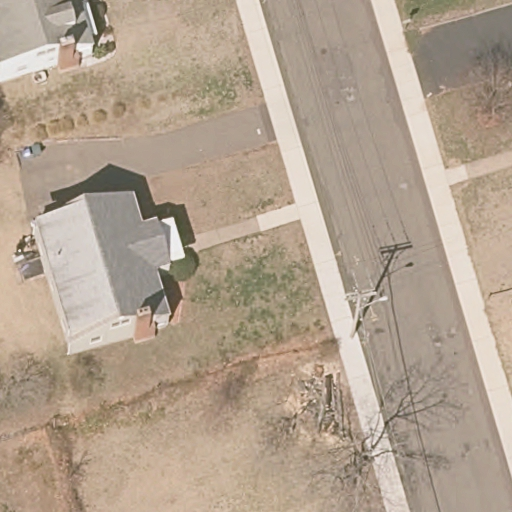DT: (343, 286, 389, 340)
